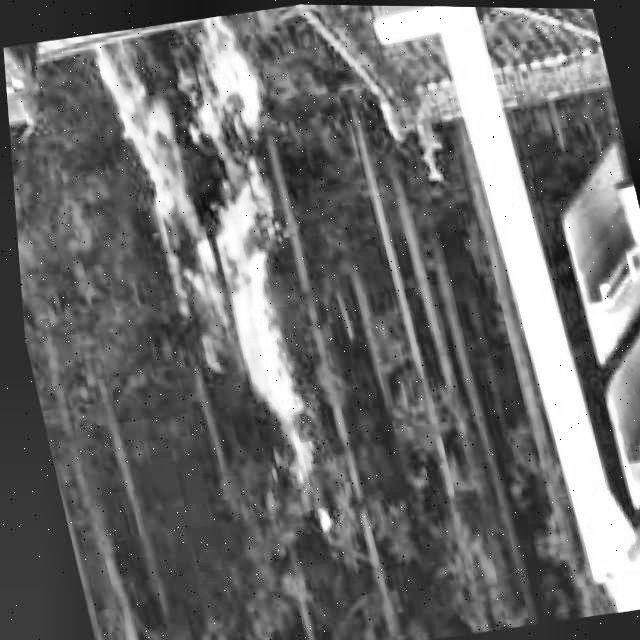Fire: (87, 15, 344, 480)
